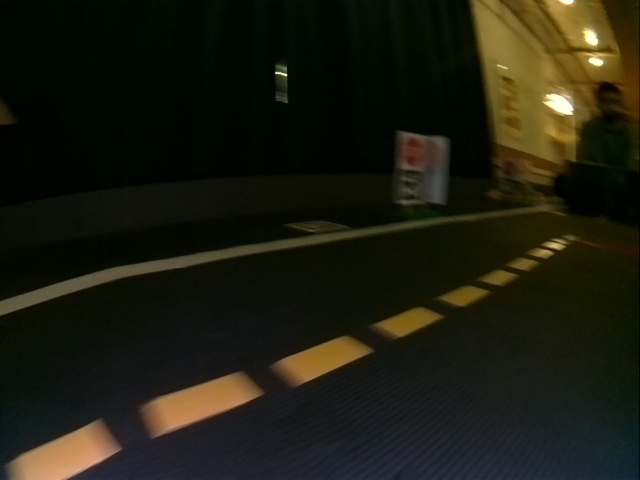QR code: (396, 171, 425, 200), (289, 220, 346, 231)
Stop sign: (398, 134, 425, 168)
